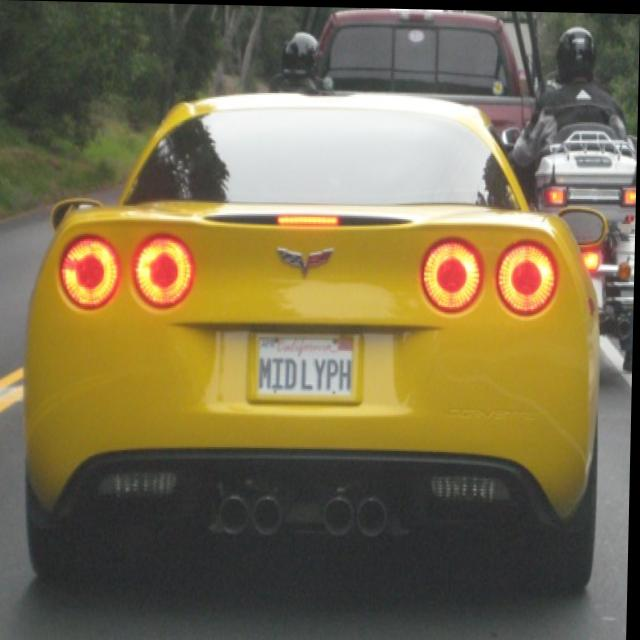licence: (249, 329, 362, 397)
